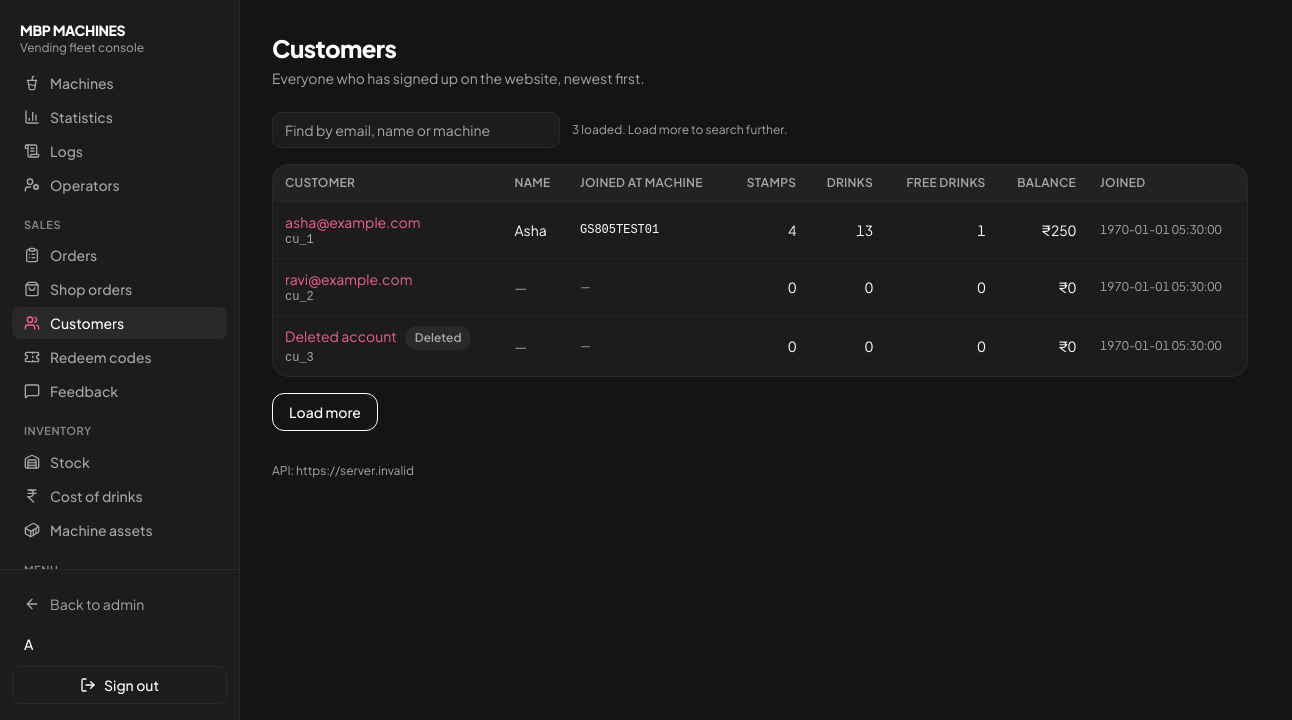
Test: Customers › lists each customer by email with their balance, and finds one in the loaded rows
The width and height of the screenshot is (1292, 720).
(page scrolled)
Expected: the row with test id "row-customer-cu_1" shows "₹250", [1041,221,1076,239]
Expected: the row with test id "row-customer-cu_2" shows "₹0", [1058,278,1076,296]
Type "RAVI" into the search field with test id "customers-find".
click(416, 130); type("RAVI")  # box [272,112,560,148]
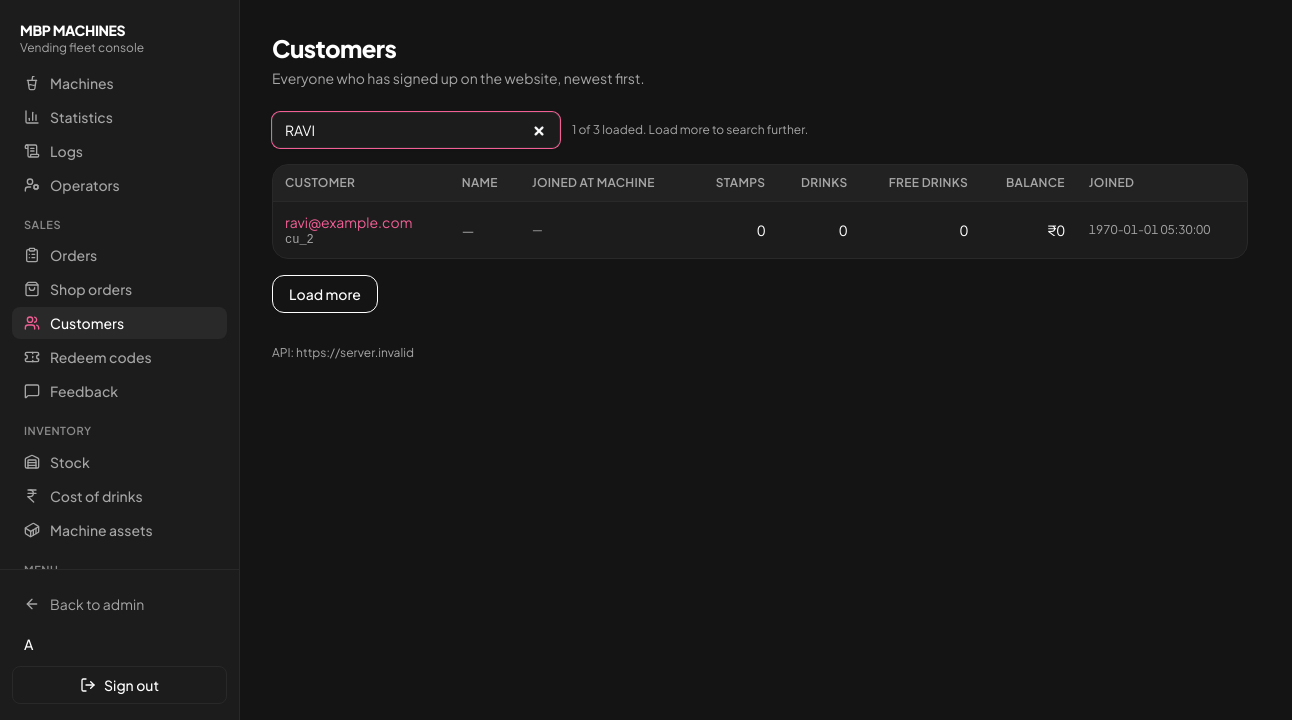
Expected: the row with test id "row-customer-cu_2" is shown, [273,202,1247,258]
Expected: the row with test id "row-customer-cu_1" is gone
Expected: the text with test id "customers-count" shows "1 of 3 loaded", [572,122,643,137]
